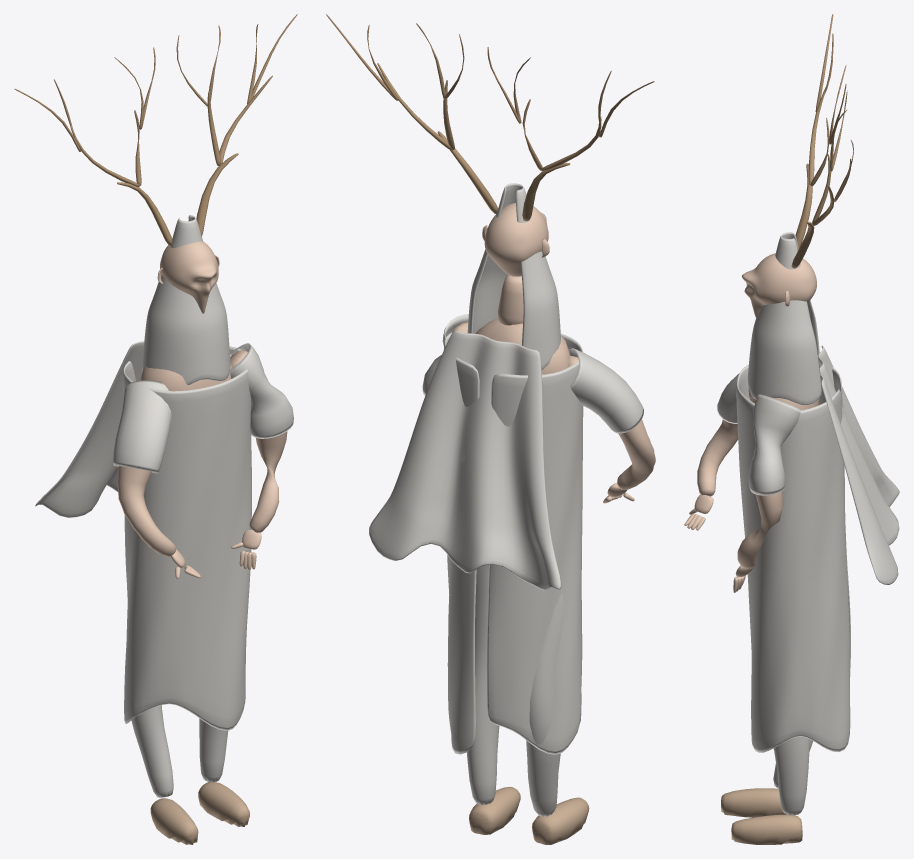
File: grove_mystic.glb
3 renders of one model, left to right at view 1: azimuth 30°, elevation 25°; view 2: azimuth 150°, elevation 25°; view 3: azimuth 270°, elevation 25°, orthographic. The views are drawn at different scales.
Visible parts, largest first — view 1: Robe, Hood, Cape, SleeveR, SleeveL, Head, LegR, ArmR, ArmL, BootL, BootR, LegL (+3 smaller); view 2: Cape, Robe, Hood, LegR, LegL, SleeveR, Head, BootR, ArmR, BootL, Body, Neck (+1 smaller); view 3: Robe, Hood, Cape, SleeveL, Head, LegL, BootL, BootR, ArmR, ArmL, SleeveR, Antler-1214 (+1 smaller).
Part boxes in pixels (x1,y1,x2,y2): Robe: (123,346,251,730); Hood: (142,215,230,384); Cape: (35,341,144,517); SleeveR: (113,380,171,473); SleeveL: (229,343,293,438); Head: (160,241,218,313); LegR: (126,581,173,797); ArmR: (117,466,175,556); ArmL: (230,350,287,532); BootL: (198,782,249,826); BootR: (150,798,198,844); LegL: (199,718,228,782); Cape: (369,330,561,590); Robe: (443,332,583,754); Hood: (467,183,560,370); LegR: (526,593,564,816); LegL: (467,565,499,804); SleeveR: (568,347,643,433); Head: (484,203,548,276); BootR: (532,797,589,844); ArmR: (568,355,655,489); BootL: (469,786,520,834); Body: (475,318,570,374); Neck: (497,275,523,325); Robe: (736,365,850,752); Hood: (747,232,821,405); Cape: (818,345,899,584); SleeveL: (748,394,801,495); Head: (742,253,816,318); LegL: (773,736,809,815); BootL: (731,814,802,844); BootR: (721,788,785,817); ArmR: (697,419,738,496); ArmL: (737,491,783,568); SleeveR: (717,373,750,423); Antler-1214: (795,163,812,248).
Size of the model in its own units: 0.9878 by 2.43 by 0.6354.
